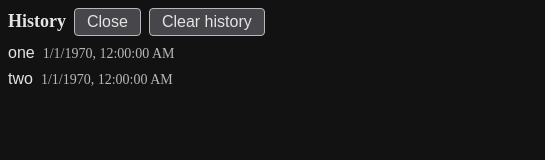
Test: clearing history (12.6) › clears everything in one action behind a confirmation step
The width and height of the screenshot is (545, 160).
Click the button "Clear history" at [207, 22], box [149, 8, 265, 36]
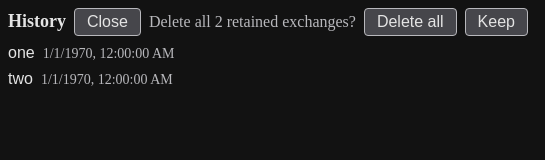
Click the button "Delete all" at [410, 22], box [364, 8, 457, 36]
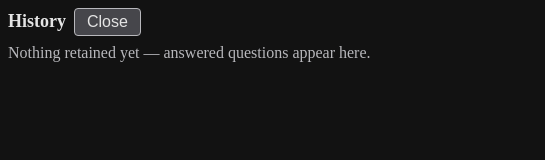
Result: the button "one" is gone
